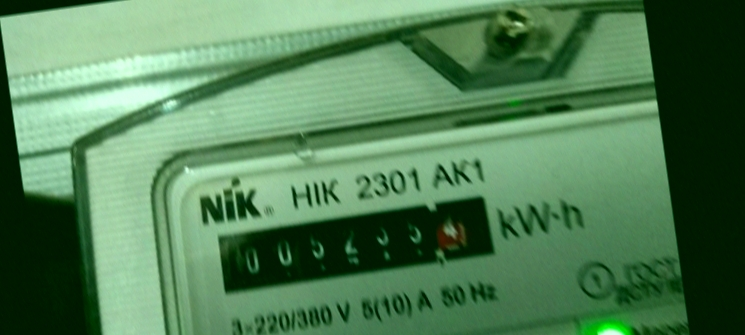0: (271, 234, 295, 270), (239, 243, 262, 276)
2: (336, 222, 361, 259)
3: (367, 215, 395, 251)
4: (435, 206, 462, 245)
5: (400, 210, 427, 248), (304, 228, 327, 263)
screen: (197, 180, 508, 308)
